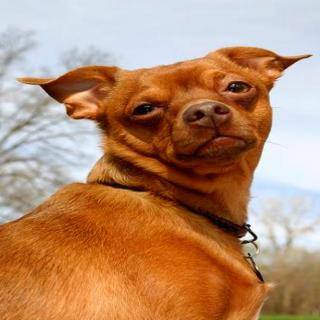dog: (19, 58, 319, 172)
nose: (179, 96, 232, 129)
